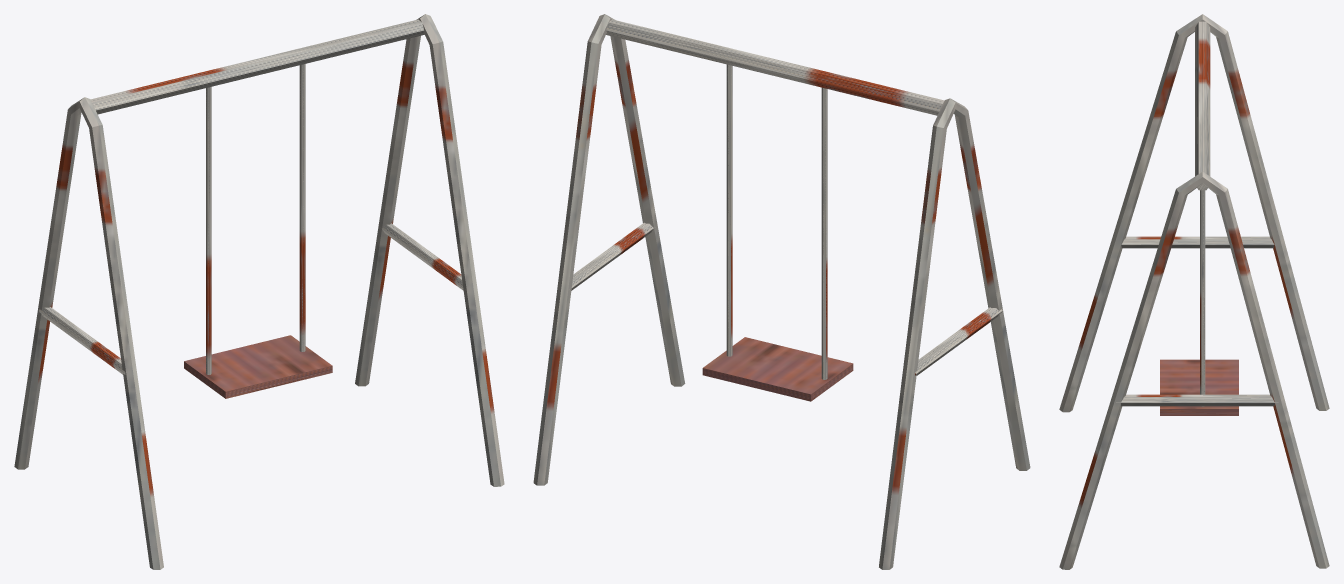
File: Swing.fbx
3 renders of one model, left to right at view 1: azimuth 30°, elevation 25°; view 2: azimuth 150°, elevation 25°; view 3: azimuth 270°, elevation 25°, orthographic. The views are drawn at different scales.
Parts seen in each view (by area): view 1: Swing; view 2: Swing; view 3: Swing.
Part boxes in pixels (box(x1,y1,x2,y2)): Swing: box(14, 14, 504, 569); Swing: box(533, 14, 1030, 569); Swing: box(1059, 14, 1329, 569).
Size of the model in its own units: 207 by 234 by 145.
